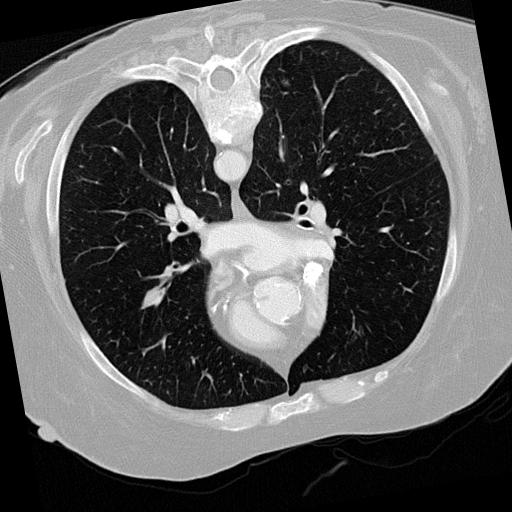nodule: (141, 286, 165, 310)
